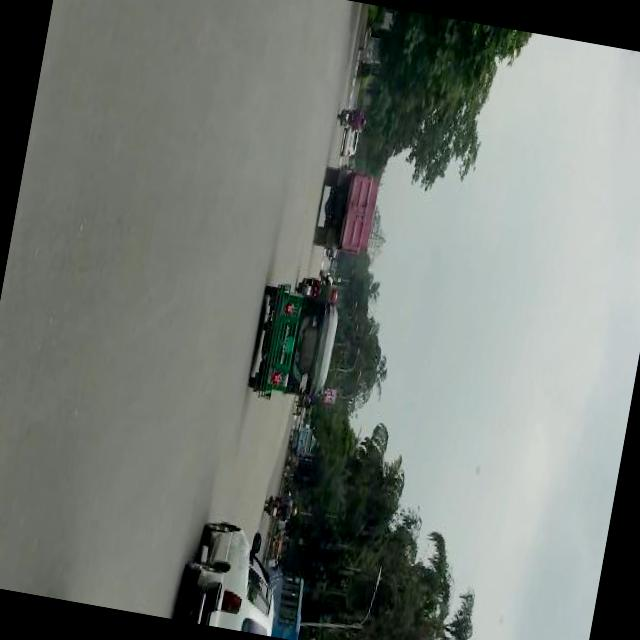car: (175, 514, 289, 636), (338, 128, 359, 162)
motorcycle: (243, 279, 342, 412), (292, 269, 338, 304), (260, 489, 299, 528), (262, 532, 290, 568), (333, 106, 366, 133), (351, 58, 372, 84)
